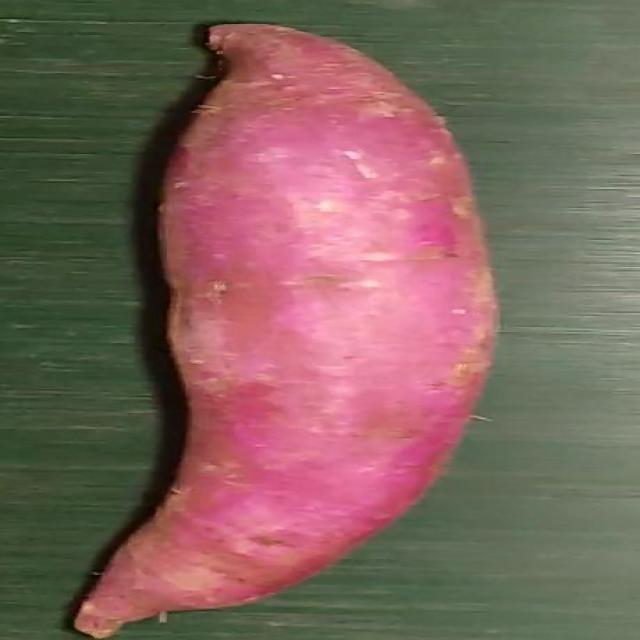Sweet Potato: (68, 25, 494, 640)
